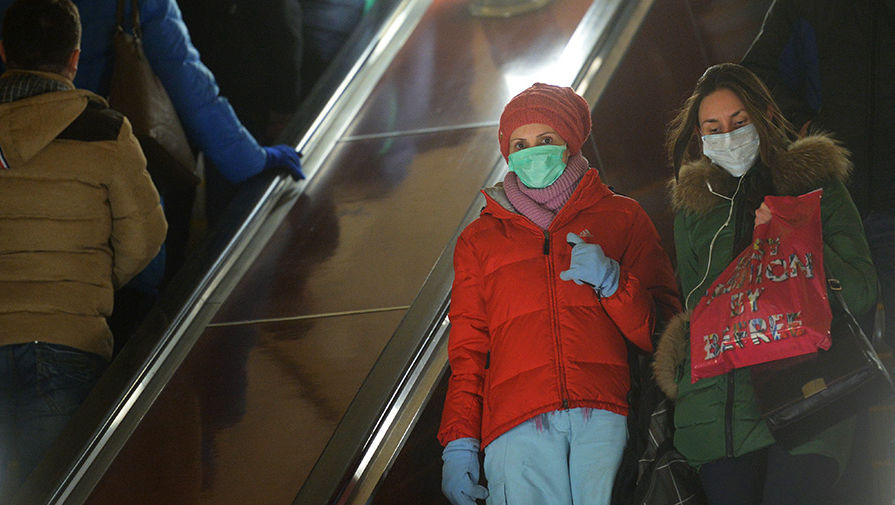face_mask: (700, 93, 760, 175), (507, 121, 574, 191)
